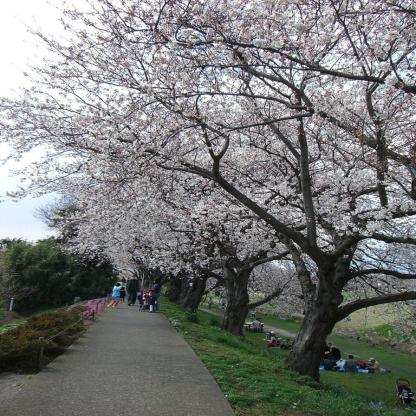Someiyoshino: (3, 2, 415, 358)
